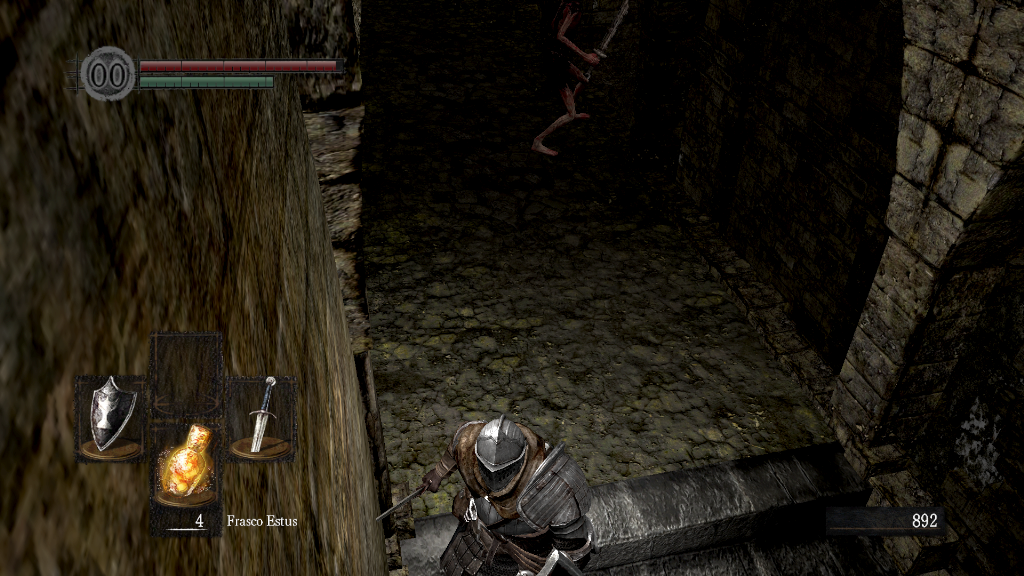health: (138, 58, 343, 71)
hollow: (522, 1, 632, 161)
humanity: (80, 45, 136, 102)
player: (379, 415, 597, 576)
souls: (825, 506, 945, 536)
stamina: (138, 74, 274, 88)
